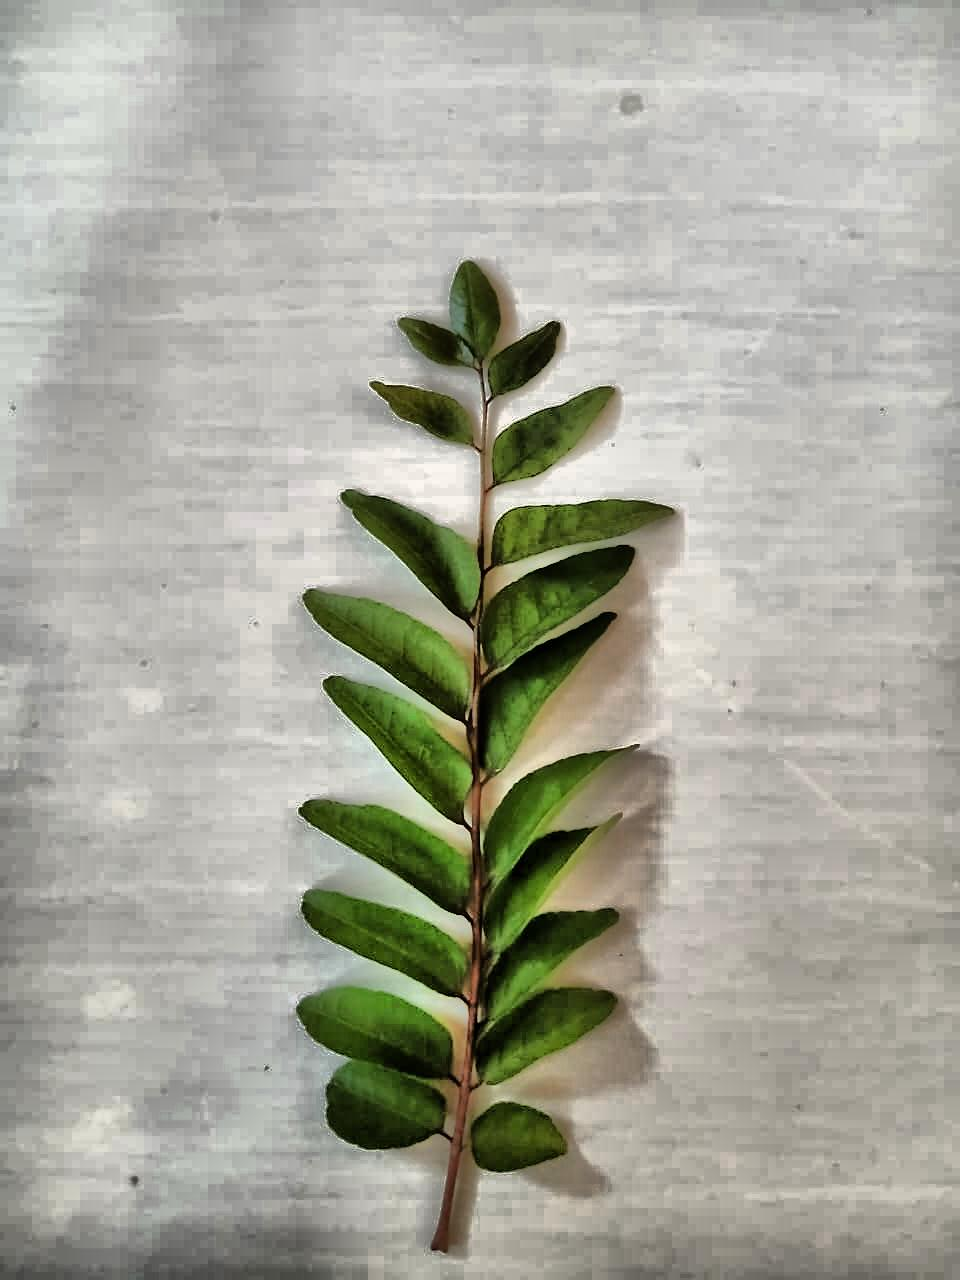daun kari: (298, 263, 671, 1250)
